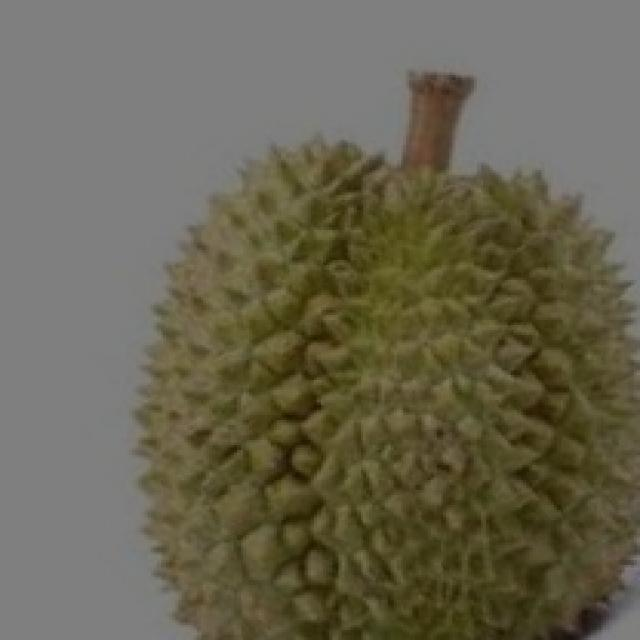fruit: (71, 262, 418, 640), (292, 282, 637, 640)
